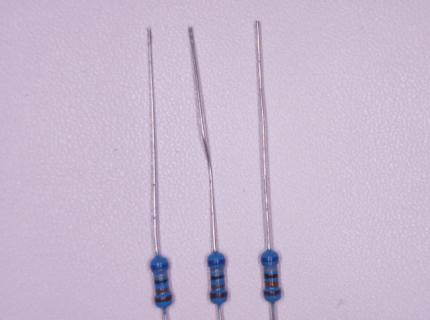Black band: (155, 278, 168, 284), (211, 275, 224, 280), (265, 274, 278, 279)
Blue band: (151, 263, 168, 270), (209, 259, 225, 265), (262, 257, 278, 263)
Brown band: (155, 295, 173, 302), (210, 292, 227, 299), (264, 289, 281, 296)
Grey band: (154, 273, 167, 279), (264, 267, 278, 272), (211, 270, 224, 274)
Orange band: (155, 288, 169, 295), (265, 281, 278, 288), (211, 284, 225, 290)
